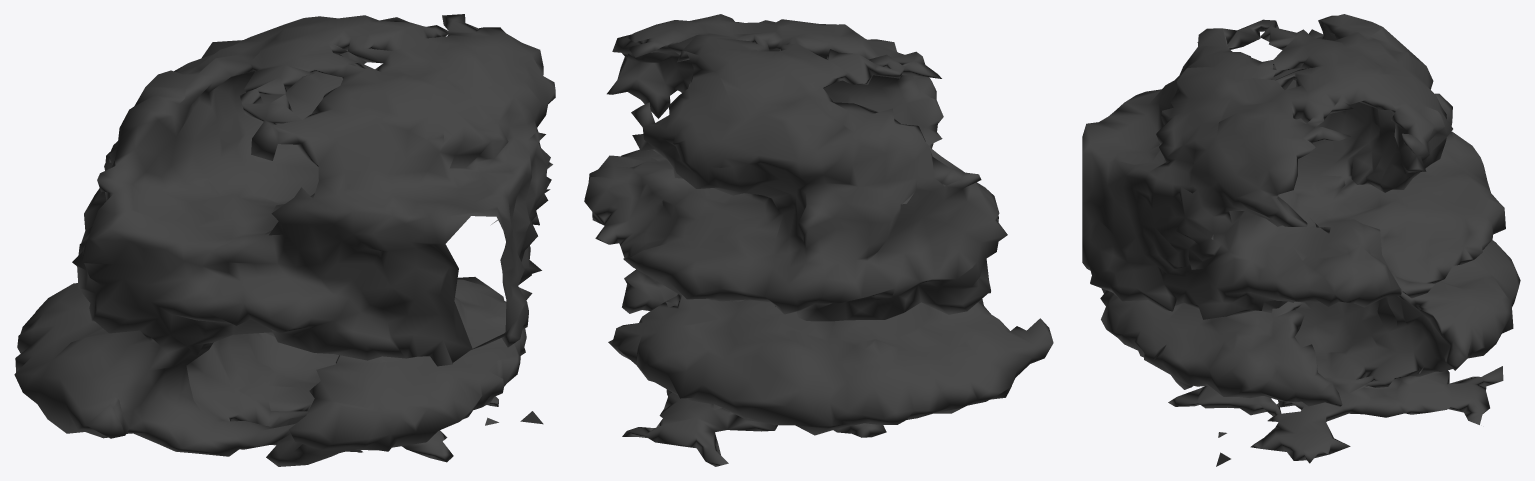
The model's file is strata-1.glb.
3 renders of one model, left to right at view 1: azimuth 30°, elevation 25°; view 2: azimuth 150°, elevation 25°; view 3: azimuth 270°, elevation 25°, orthographic. The views are drawn at different scales.
Parts seen in each view (by area): view 1: geometry_0; view 2: geometry_0; view 3: geometry_0.
Boxes of the visible parts, x1,y1,x2,y2 form: geometry_0: (14, 14, 555, 466); geometry_0: (584, 14, 1053, 466); geometry_0: (1082, 14, 1520, 466).
Size of the model in its own units: 1.29 by 1 by 1.15.
1 material, 1 textured.
